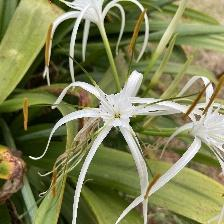spider lily: (82, 76, 159, 177)
